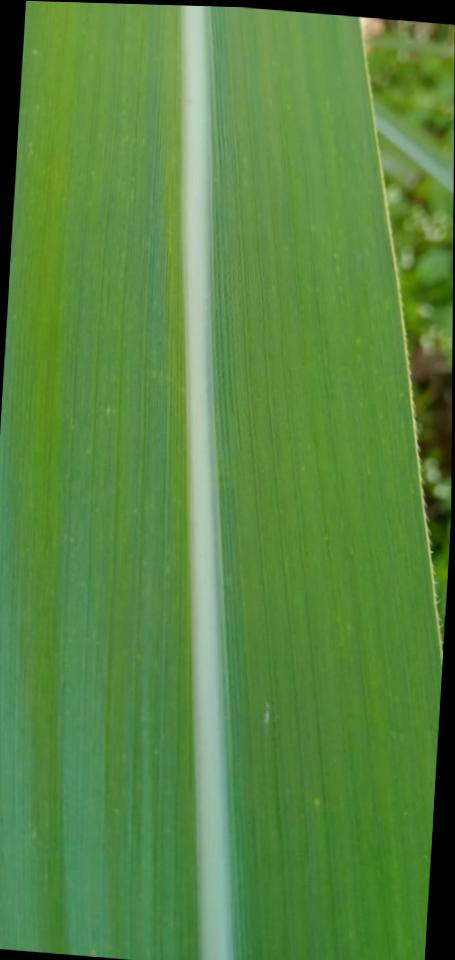Healthy: (0, 1, 440, 960)
